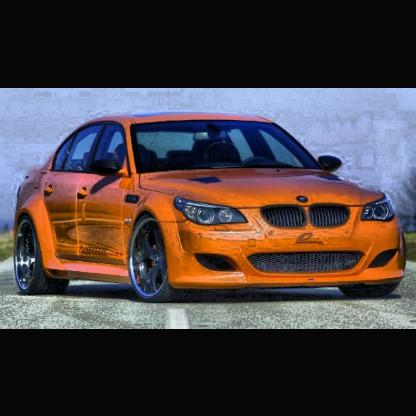BMW M5 Sedan 2010: (13, 111, 409, 300)
